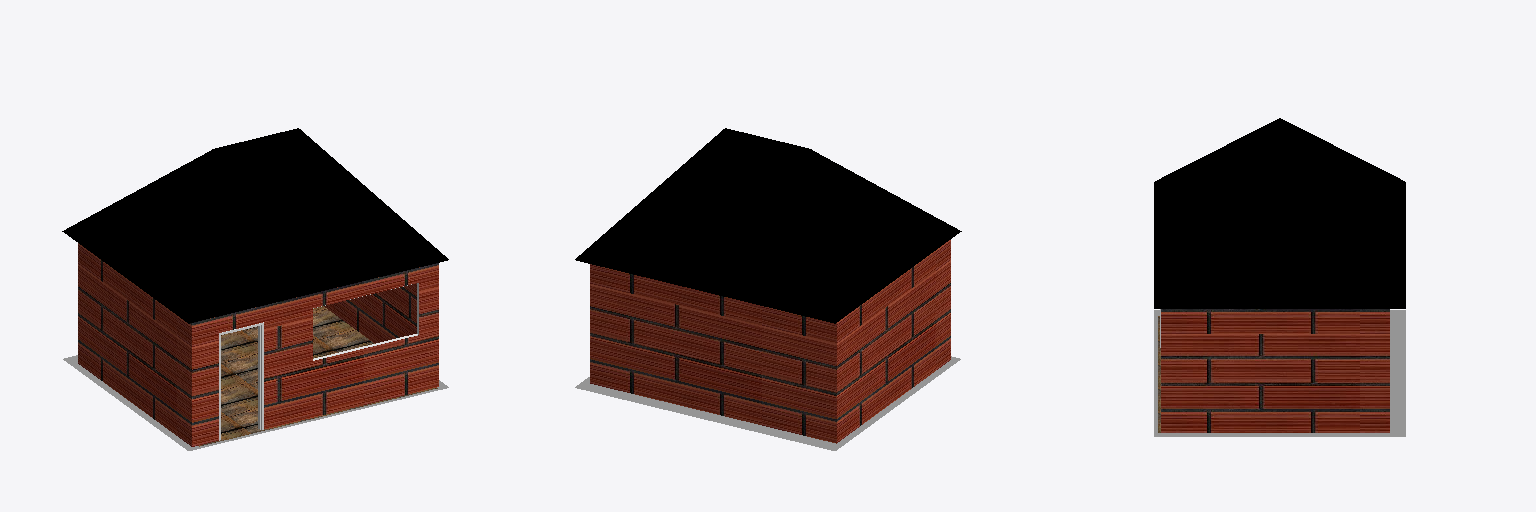
3 views of the same model, side by side, from view 1: azimuth 30°, elevation 25°; view 2: azimuth 150°, elevation 25°; view 3: azimuth 270°, elevation 25° (orthographic).
Visible parts, largest first — view 1: polySurface1; view 2: polySurface1; view 3: polySurface1.
Part boxes in pixels (bbox=[...]): polySurface1: bbox=[62, 128, 448, 450]; polySurface1: bbox=[575, 128, 961, 450]; polySurface1: bbox=[1154, 118, 1405, 436].
Size of the model in its own units: 144 by 124 by 121.
Materials: 6 (2 with a texture image).